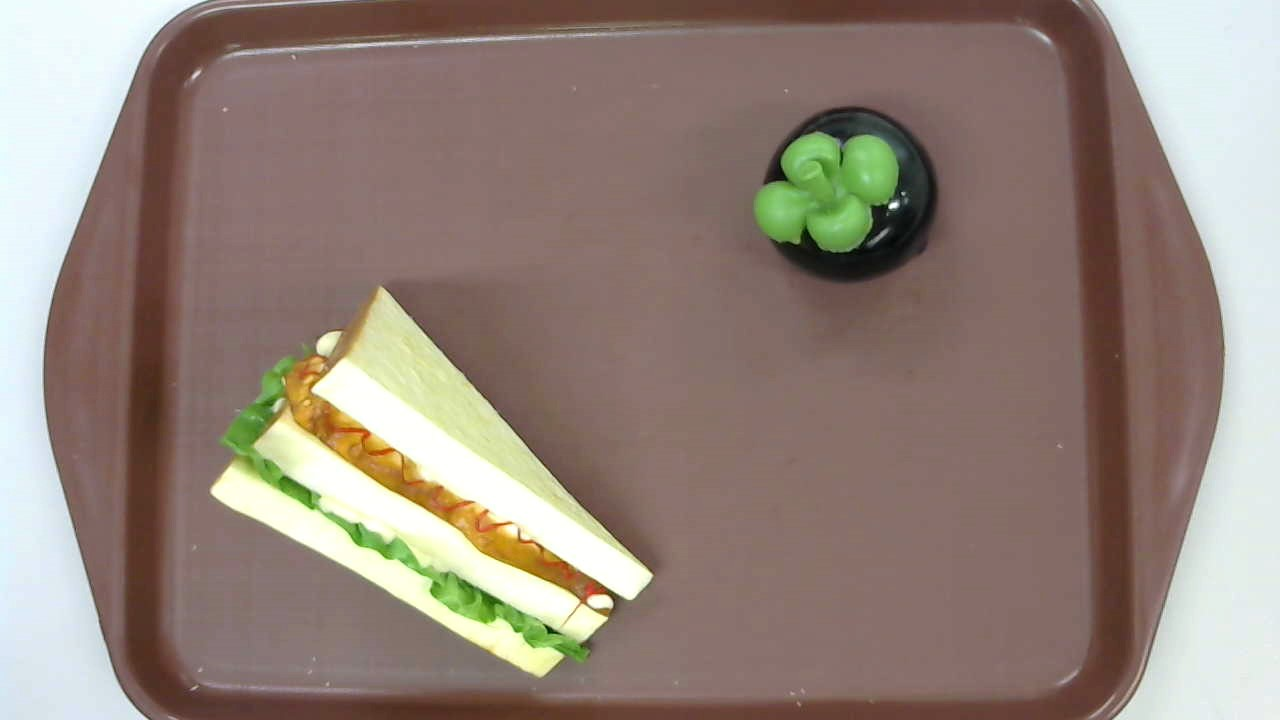mangosteen: (753, 106, 939, 283)
sandwich: (210, 285, 653, 678)
